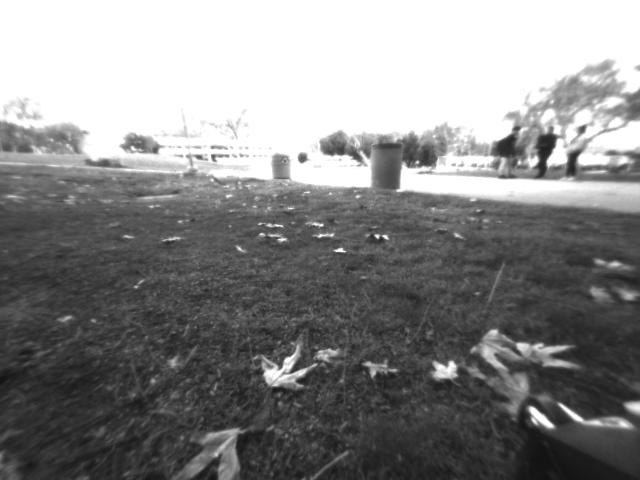trashcan: (371, 140, 405, 190), (271, 151, 296, 182)
